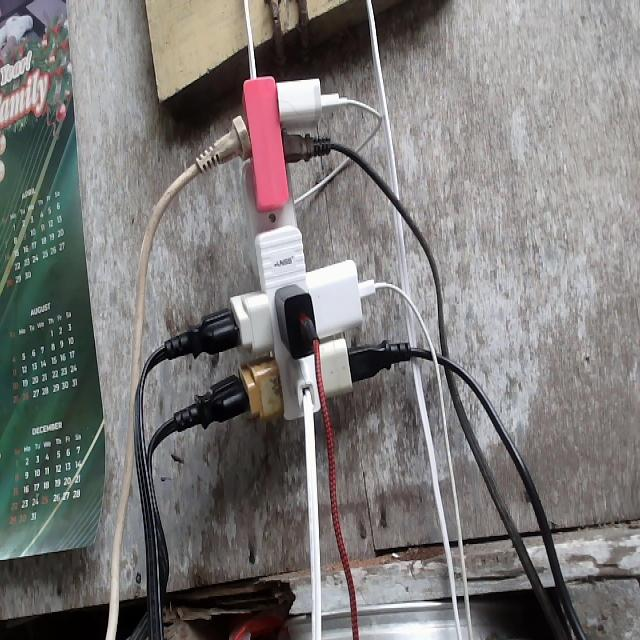-: (163, 78, 410, 438)
